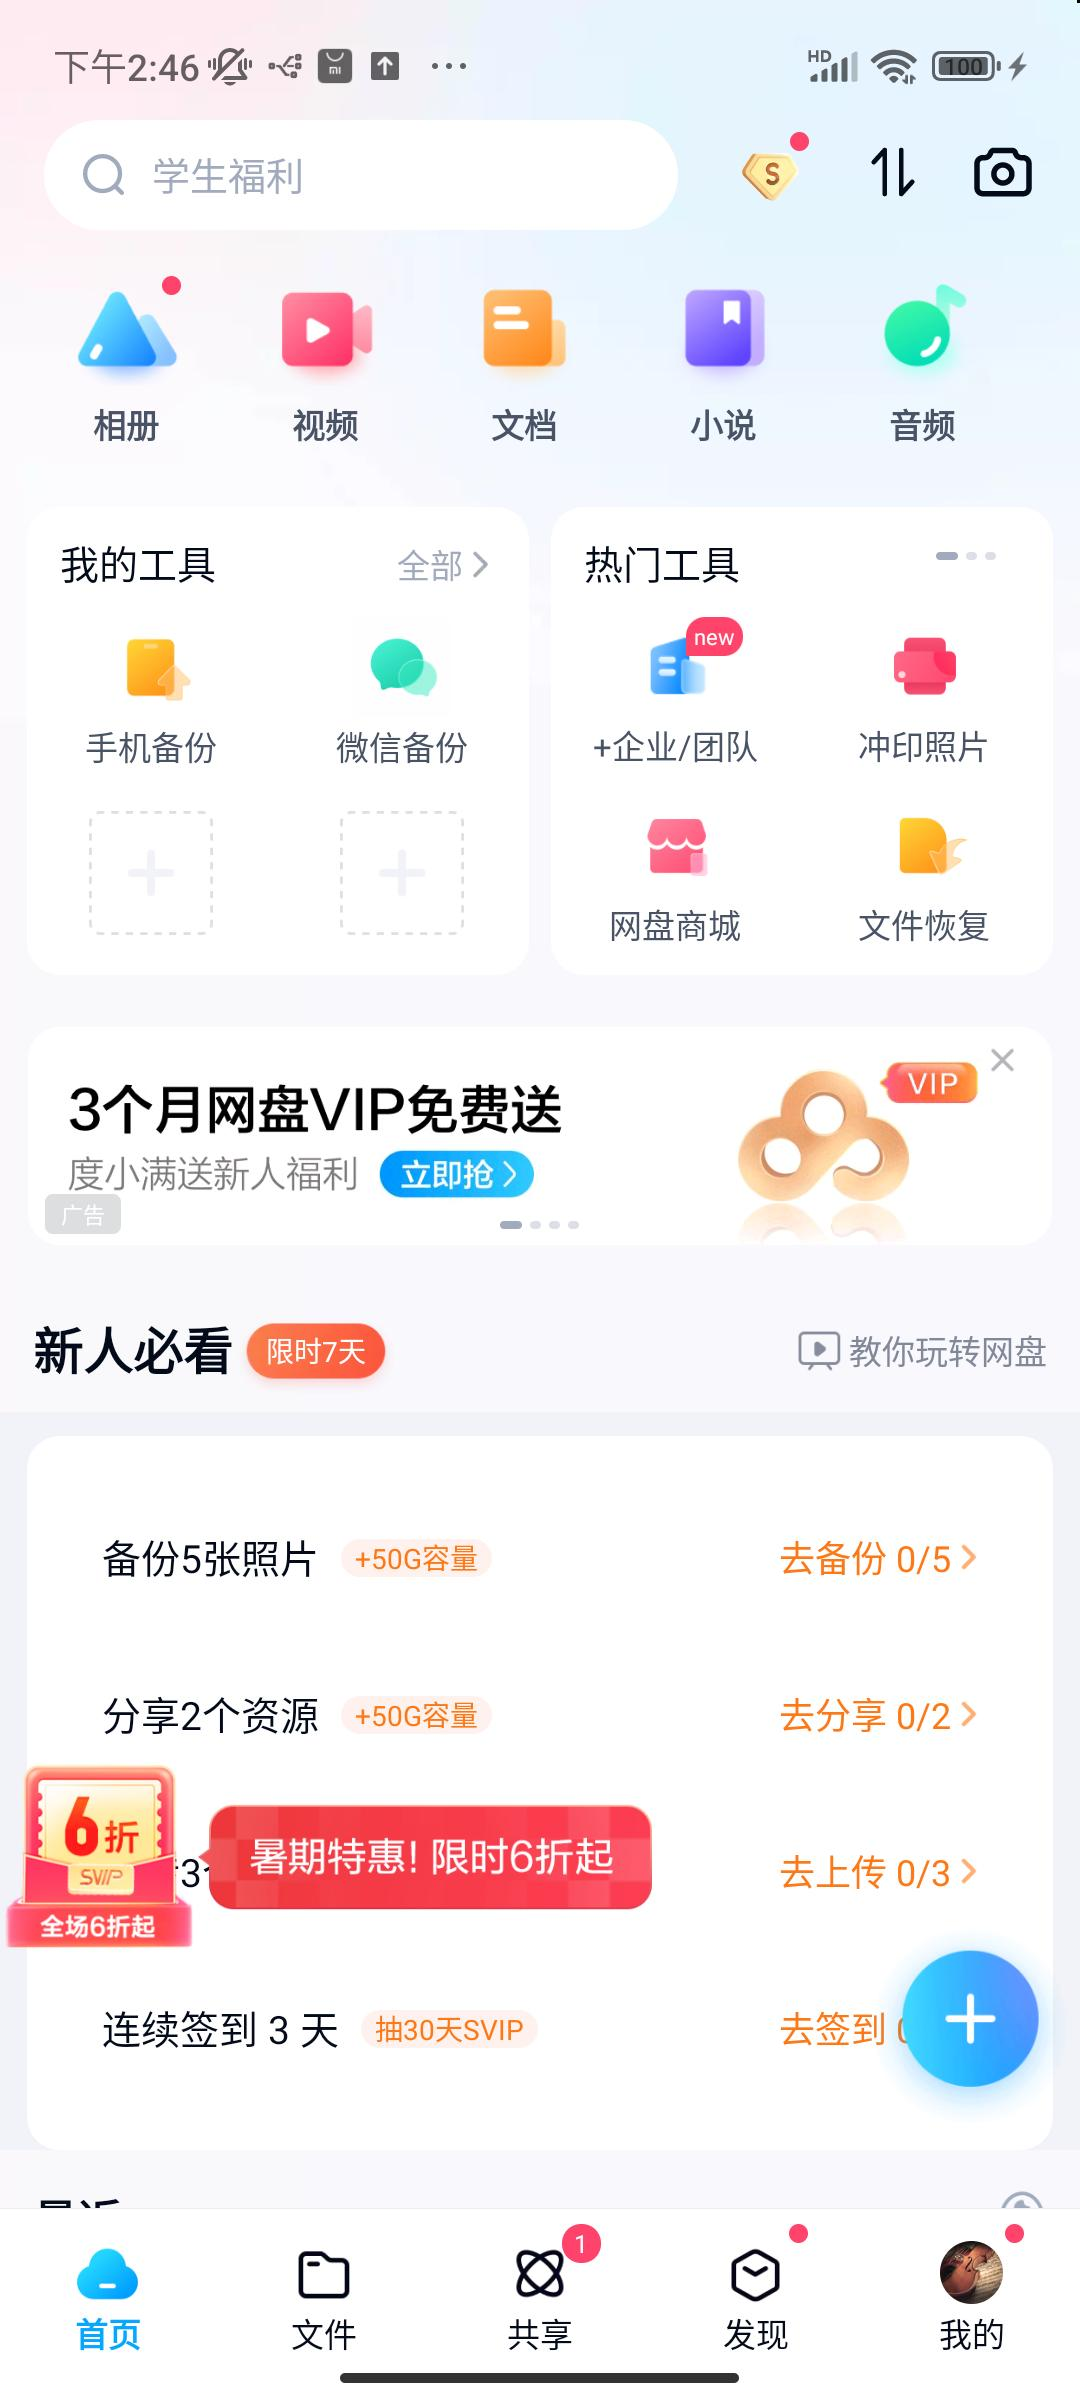ui_group: (28, 1021, 1063, 1244), (18, 1766, 661, 1961), (70, 1497, 1036, 1621), (69, 1645, 1040, 1759)
